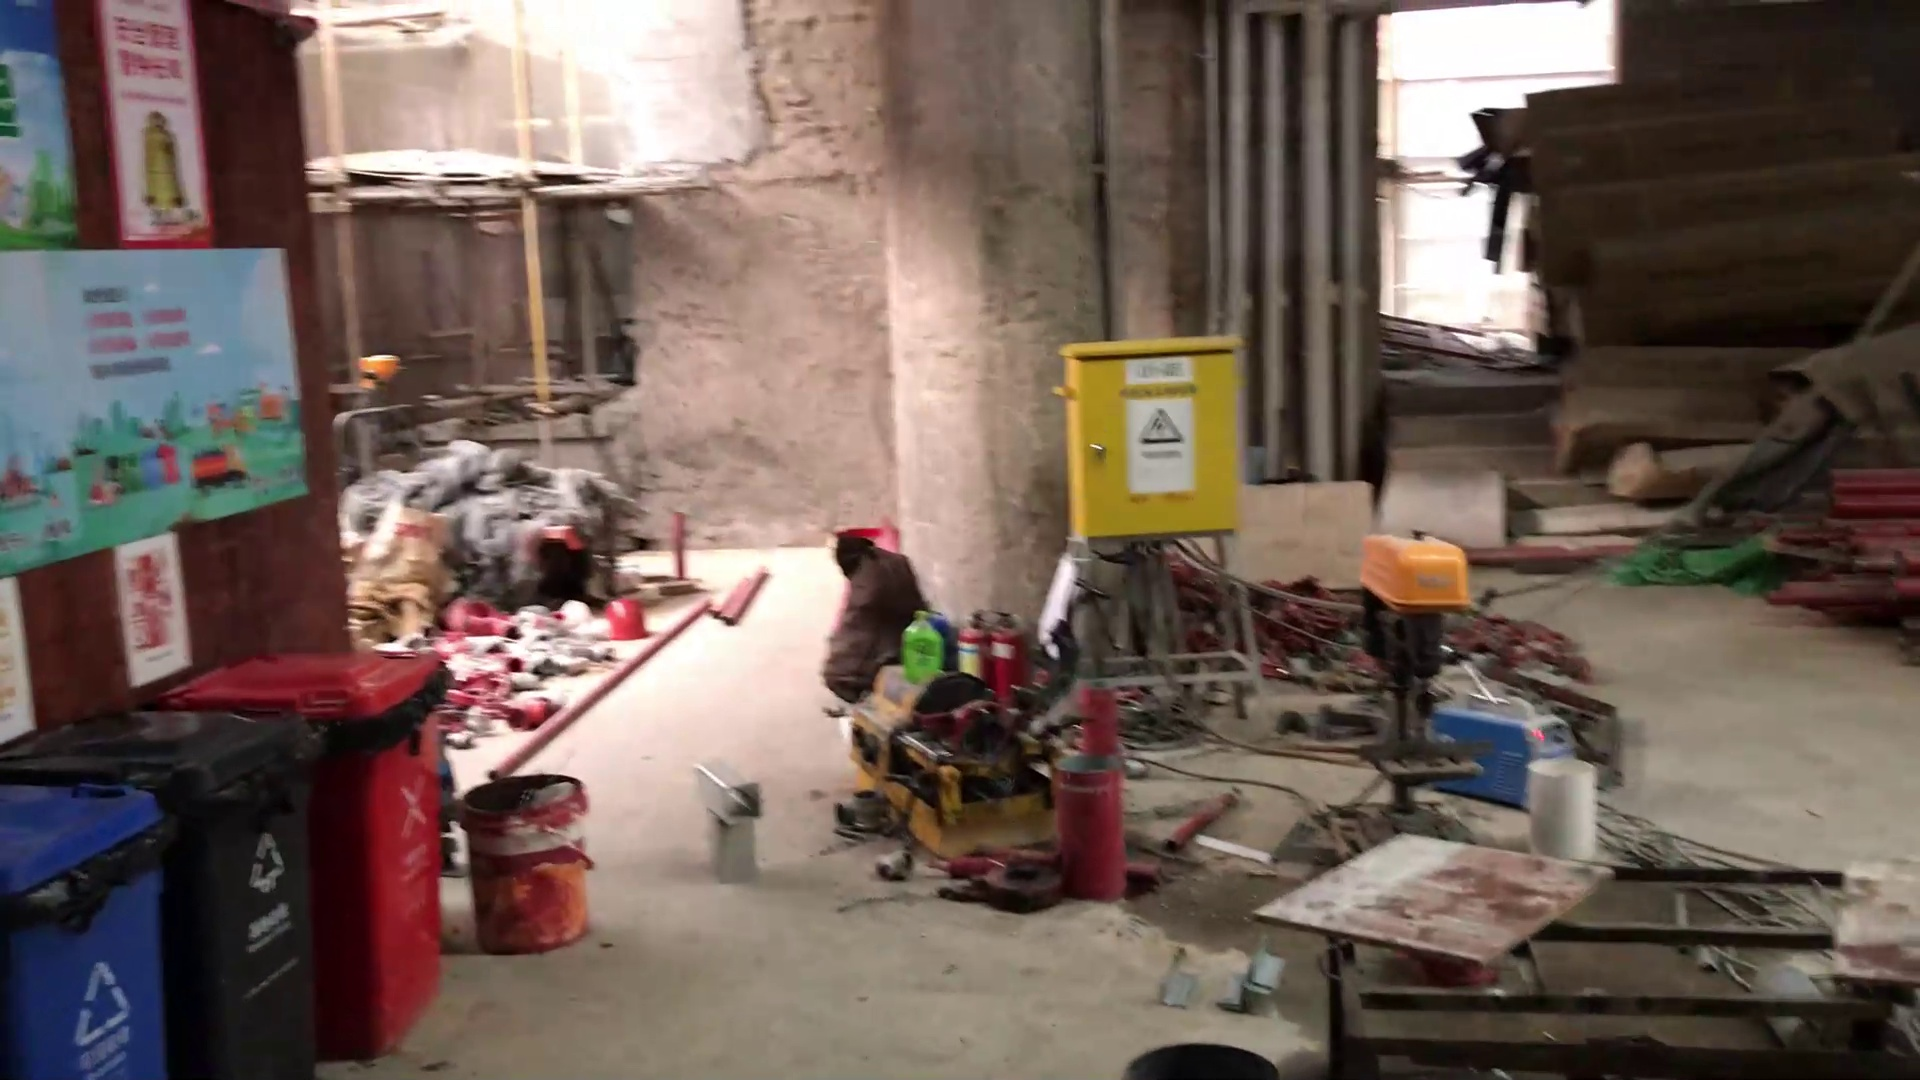ebox: (1044, 320, 1261, 549)
